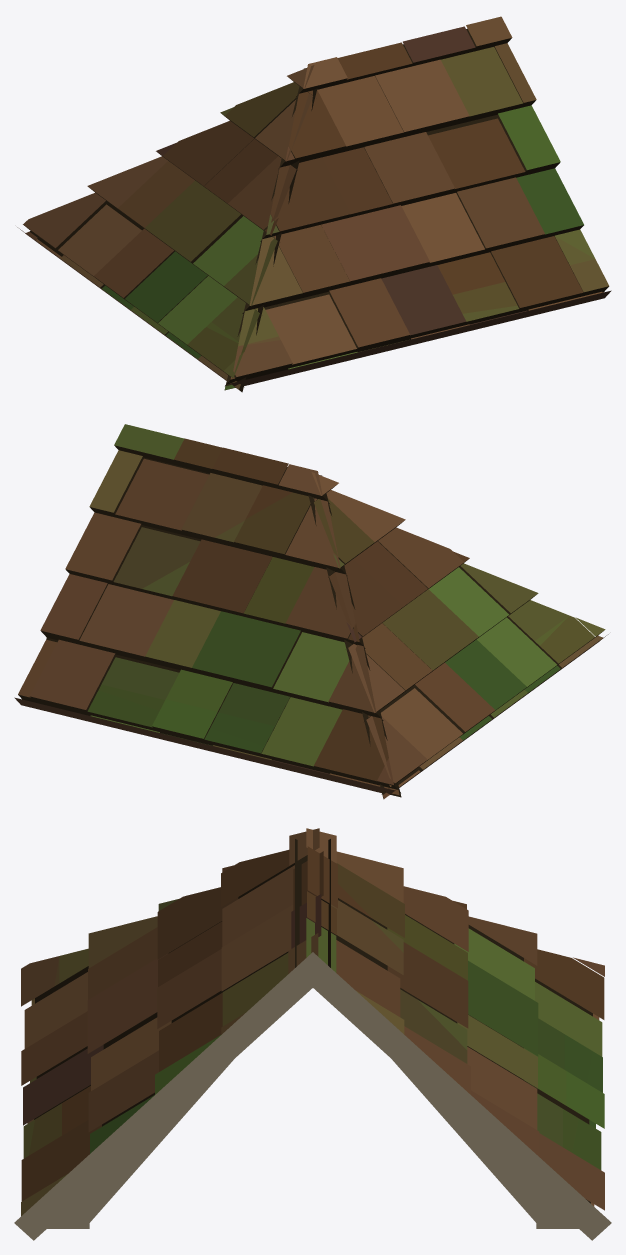
File: roof-gable-end-mossy.glb
The picture shows the model from 3 angles, top to bottom: view 1: azimuth 30°, elevation 25°; view 2: azimuth 150°, elevation 25°; view 3: azimuth 270°, elevation 25°; orthographic projection. The views are drawn at different scales.
Visible parts, largest first — view 1: roof-gable-end-mossy; view 2: roof-gable-end-mossy; view 3: roof-gable-end-mossy.
Boxes of the visible parts, x1,y1,x2,y2 form: roof-gable-end-mossy: [17, 16, 611, 392]; roof-gable-end-mossy: [14, 424, 608, 799]; roof-gable-end-mossy: [14, 828, 611, 1240].
Bounding box in the file's own units: 1.09 × 0.5707 × 1.07.
